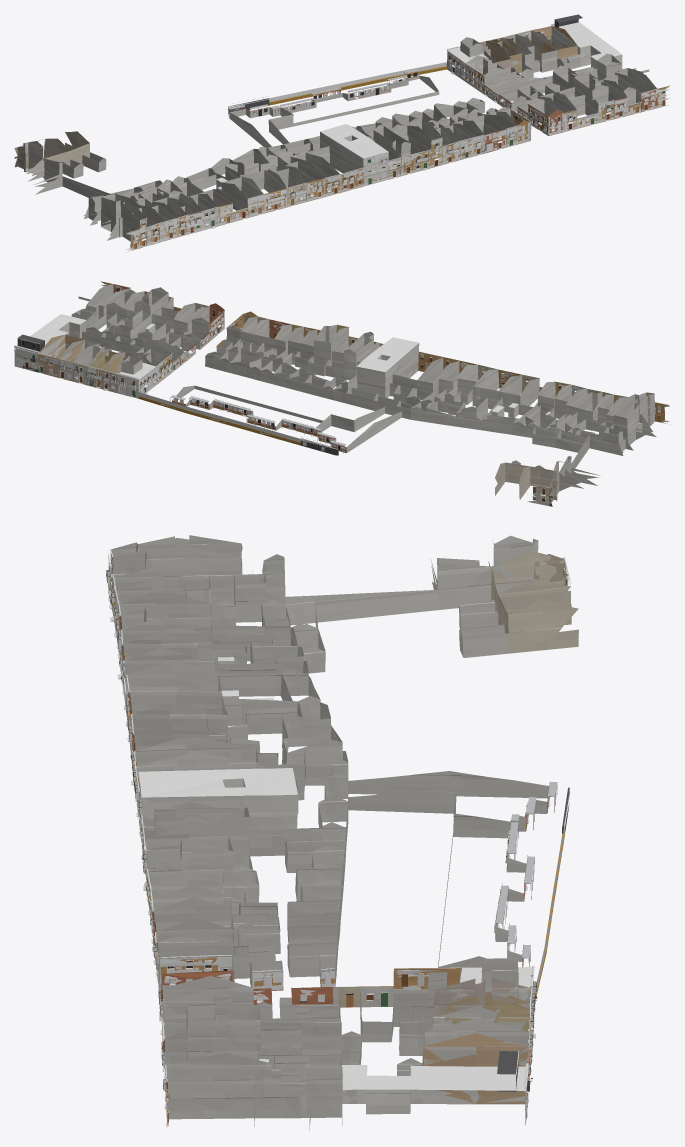
File: zona_1_-2.glb
3 views of the same model, one above another, from view 1: azimuth 30°, elevation 25°; view 2: azimuth 150°, elevation 25°; view 3: azimuth 270°, elevation 25° (orthographic). The views are drawn at different scales.
Parts seen in each view (by area): view 1: z_casas_1_-2, z_fachadas_1_-2, z_casas_planas_1_-2; view 2: z_casas_1_-2, z_fachadas_1_-2, z_casas_planas_1_-2; view 3: z_casas_1_-2, z_casas_planas_1_-2, z_fachadas_1_-2.
Part boxes in pixels (box(x1,y1,x2,y2)): z_casas_1_-2: box(14, 26, 669, 251); z_fachadas_1_-2: box(15, 14, 670, 249); z_casas_planas_1_-2: box(119, 22, 622, 237); z_casas_1_-2: box(38, 281, 668, 506); z_fachadas_1_-2: box(14, 284, 669, 503); z_casas_planas_1_-2: box(14, 314, 642, 455); z_casas_1_-2: box(108, 535, 578, 1130); z_casas_planas_1_-2: box(139, 657, 569, 1125); z_fachadas_1_-2: box(106, 549, 570, 1126).
Size of the model in its own units: 209 by 12.05 by 75.29.
